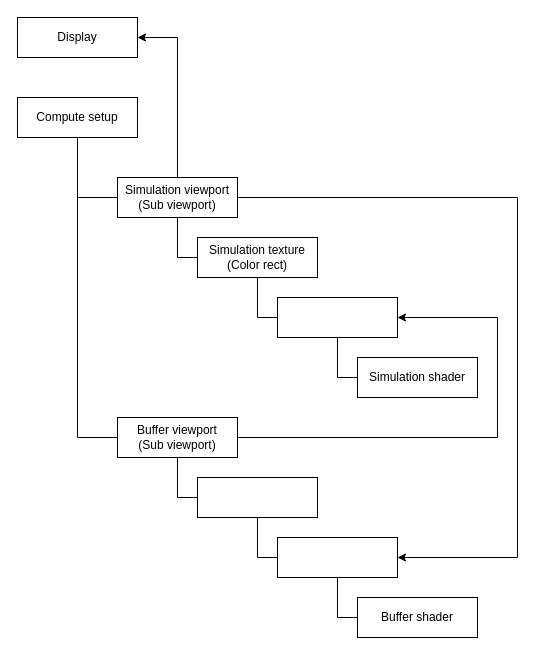
This 543x655 diagram has some shape labels left out. Here are the shapes that lost their labels. From the top down, the box of each, then its label:
(276, 296, 398, 338): Simulation material
(196, 476, 318, 518): Buffer texture (Color rect)
(276, 536, 398, 578): Buffer material
